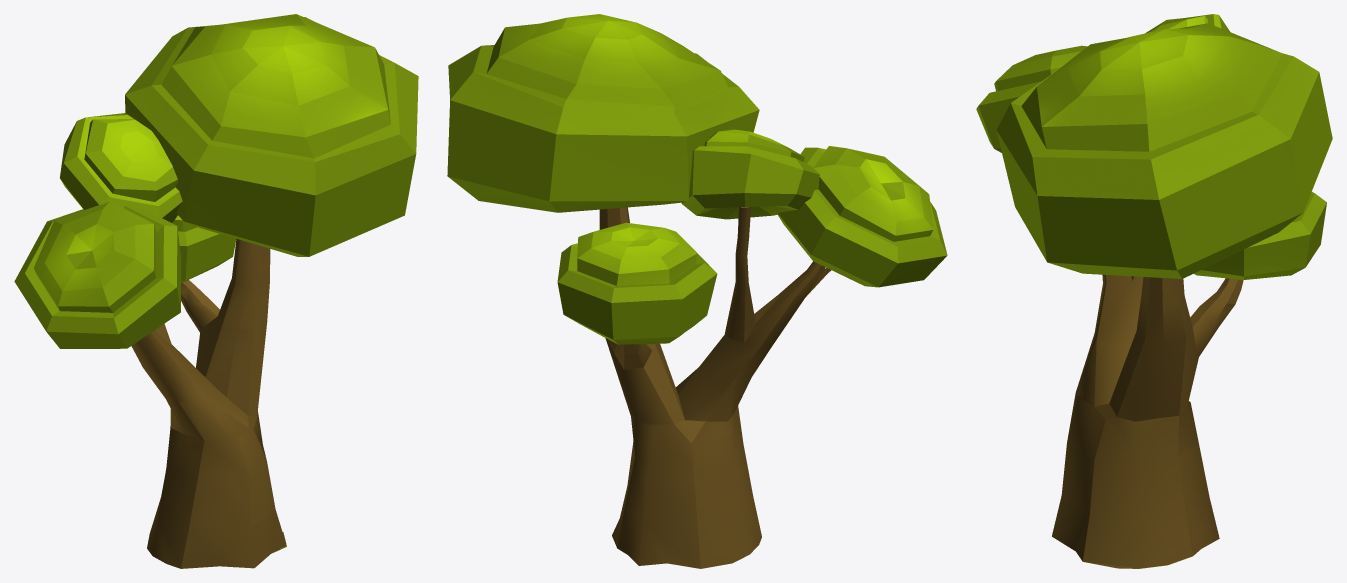
File: tree1.fbx
3 views of the same model, side by side, from view 1: azimuth 30°, elevation 25°; view 2: azimuth 150°, elevation 25°; view 3: azimuth 270°, elevation 25° (orthographic). The views are drawn at different scales.
Parts seen in each view (by area): view 1: polySurface1; view 2: polySurface1; view 3: polySurface1.
Boxes of the visible parts, <box> form: polySurface1: <box>14,14,418,568</box>; polySurface1: <box>447,14,947,568</box>; polySurface1: <box>976,14,1332,568</box>.
Size of the model in its own units: 3.62 by 3.92 by 2.37.
1 material, 1 textured.
